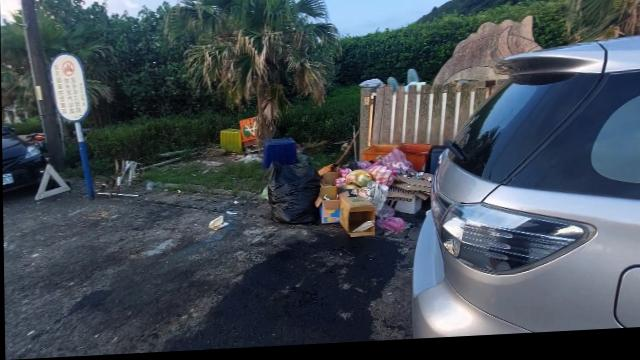pollute: (263, 140, 442, 241), (92, 160, 140, 197), (217, 118, 259, 157), (209, 219, 228, 231)
